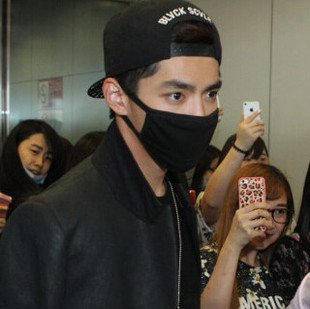face: (237, 177, 289, 248), (17, 134, 52, 178)
face_mask: (130, 50, 222, 167)
